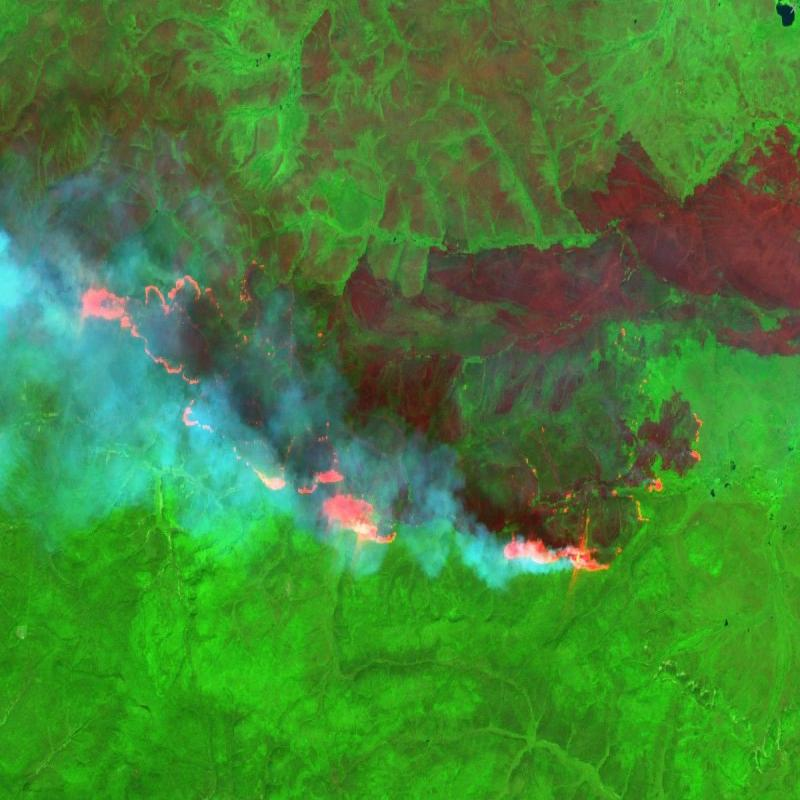fire: (52, 246, 714, 594)
